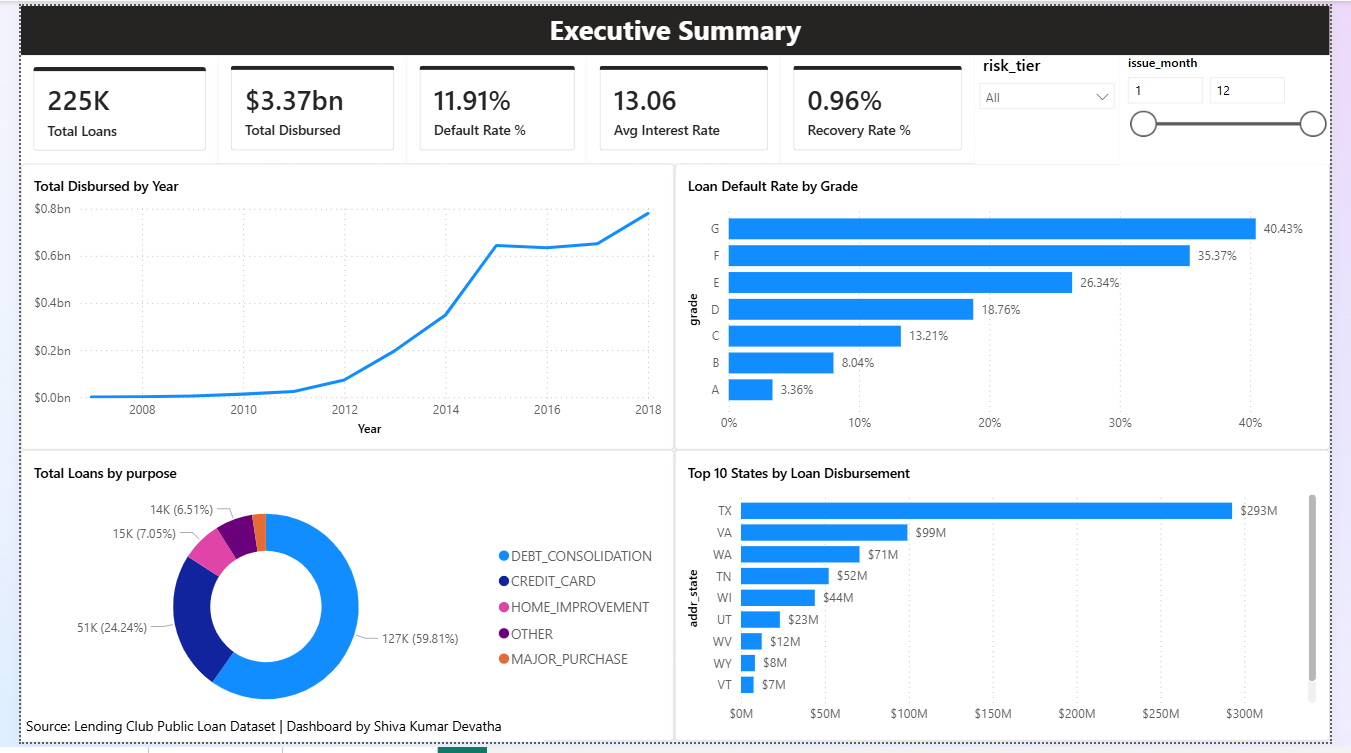

Layout of this report page (visuals, bound fields, positions):
{"tool":"powerbi","page":{"name":"Executive Summary","canvas":[1280,720],"ordinal":0},"visuals":[{"type":"cardVisual","fields":{"Data":["loan_data.Total Loans"]},"box":[0,47.7,193.2,106.4],"z":0},{"type":"cardVisual","fields":{"Data":["loan_data.Total Disbursed"]},"box":[193.2,46.5,184.6,107.6],"z":1000},{"type":"cardVisual","fields":{"Data":["loan_data.Default Rate %"]},"box":[377.9,46.5,176.1,107.6],"z":2000},{"type":"cardVisual","fields":{"Data":["loan_data.Avg Interest Rate"]},"box":[553.9,46.5,189.5,107.6],"z":3000},{"type":"cardVisual","fields":{"Data":["loan_data.Recovery Rate %"]},"box":[743.5,46.5,189.5,107.6],"z":4000},{"type":"lineChart","fields":{"Y":["loan_data.Total Disbursed"],"Category":["Calendar.Year"]},"box":[0,154.1,639.5,280],"z":5000},{"type":"clusteredBarChart","title":"Loan Default Rate by Grade","fields":{"Category":["loan_data.grade"],"Y":["loan_data.Default Rate %"]},"box":[639.5,154.1,640.8,280],"z":6000},{"type":"donutChart","fields":{"Category":["loan_data.purpose"],"Y":["loan_data.Total Loans"]},"box":[0,434.1,639.5,284.9],"z":7000},{"type":"clusteredBarChart","title":"Top 10 States by Loan Disbursement ","fields":{"Category":["loan_data.addr_state"],"Y":["loan_data.Total Disbursed"]},"box":[639.5,434.1,640.8,284.9],"z":8000},{"type":"slicer","fields":{"Values":["loan_data.risk_tier"]},"box":[933,46.5,141.8,107.6],"z":9000},{"type":"slicer","fields":{"Values":["loan_data.issue_month"]},"box":[1074.9,46.5,205.4,107.6],"z":10000},{"type":"textbox","box":[0,689.7,511.8,29.9],"z":11000},{"type":"textbox","box":[0,0,1280.3,47.7],"z":11001}]}

Visuals, with their boxes in screenshot pixels (x1, y1, x2, y2), scaled from the page's 1280x720 canvas onto the 1351x753 screenshot:
cardVisual - loan_data.Total Loans: Rect(0, 50, 204, 161)
cardVisual - loan_data.Total Disbursed: Rect(204, 49, 399, 161)
cardVisual - loan_data.Default Rate %: Rect(399, 49, 585, 161)
cardVisual - loan_data.Avg Interest Rate: Rect(585, 49, 785, 161)
cardVisual - loan_data.Recovery Rate %: Rect(785, 49, 985, 161)
lineChart - loan_data.Total Disbursed x Calendar.Year: Rect(0, 161, 675, 454)
"Loan Default Rate by Grade" clusteredBarChart: Rect(675, 161, 1350, 454)
donutChart - loan_data.purpose x loan_data.Total Loans: Rect(0, 454, 675, 752)
"Top 10 States by Loan Disbursement " clusteredBarChart: Rect(675, 454, 1350, 752)
slicer - loan_data.risk_tier: Rect(985, 49, 1134, 161)
slicer - loan_data.issue_month: Rect(1135, 49, 1350, 161)
textbox: Rect(0, 721, 540, 752)
textbox: Rect(0, 0, 1350, 50)
